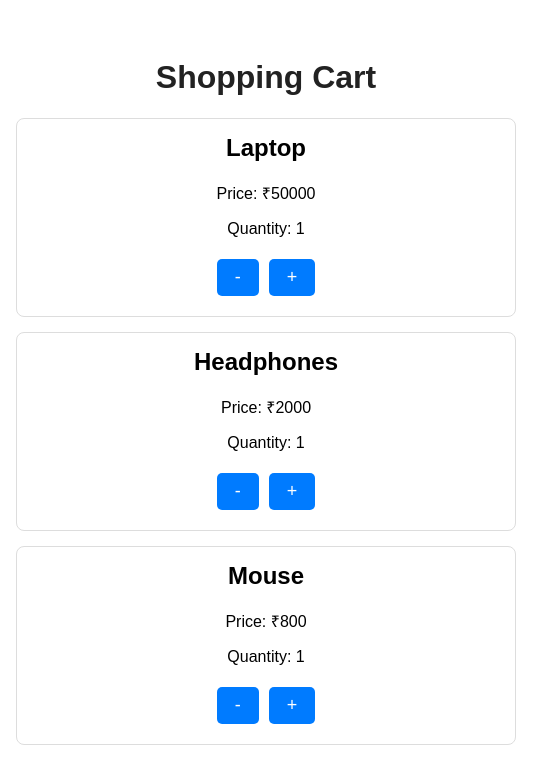
Test: React Shopping Cart › decreases laptop quantity and updates the total
Click the button named "increase laptop quantity".
click(292, 277)  # box [269,259,315,296]
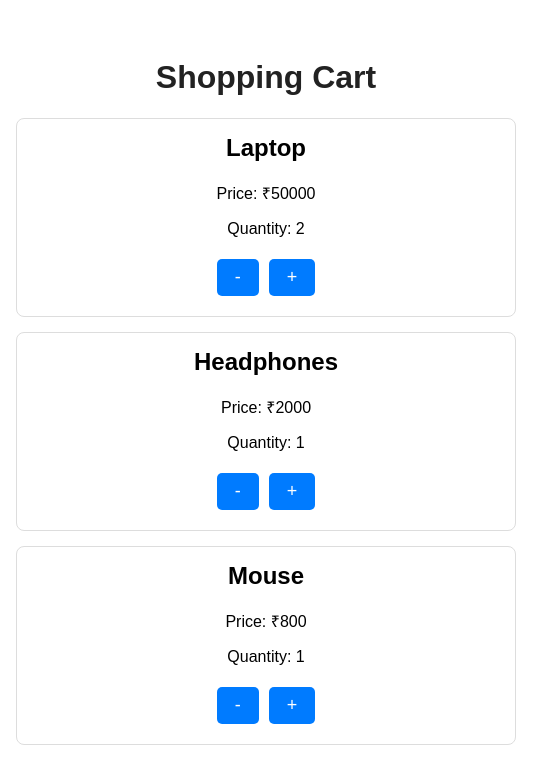
Click the button named "decrease laptop quantity".
click(238, 277)  # box [217,259,259,296]
(page scrolled)
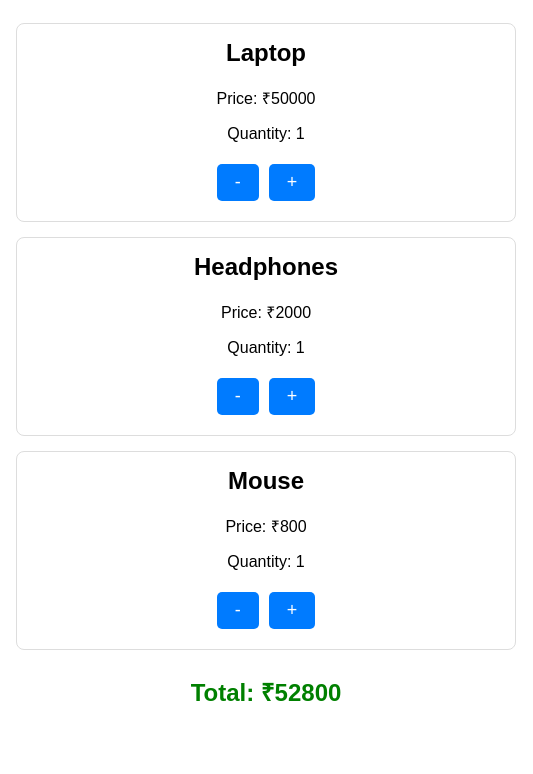
Check: the text "Quantity: 1" is shown 3 times, box [227,125,305,142]; [227,339,305,356]; [227,553,305,570]
Check: the heading "Total: ₹52800" is shown, box [191,679,341,706]
